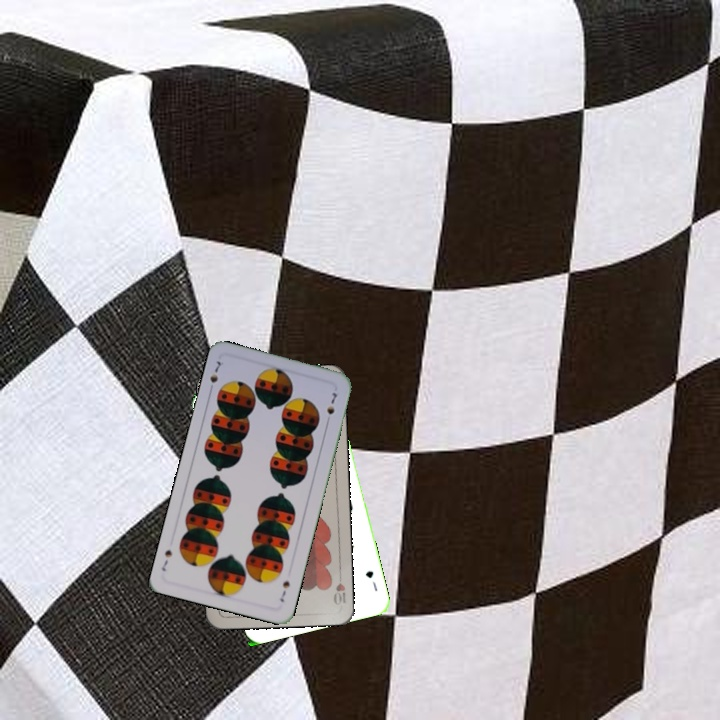GU: (362, 567, 380, 594)
H10: (329, 568, 349, 607)
S7: (205, 357, 226, 395), (276, 577, 293, 605)
